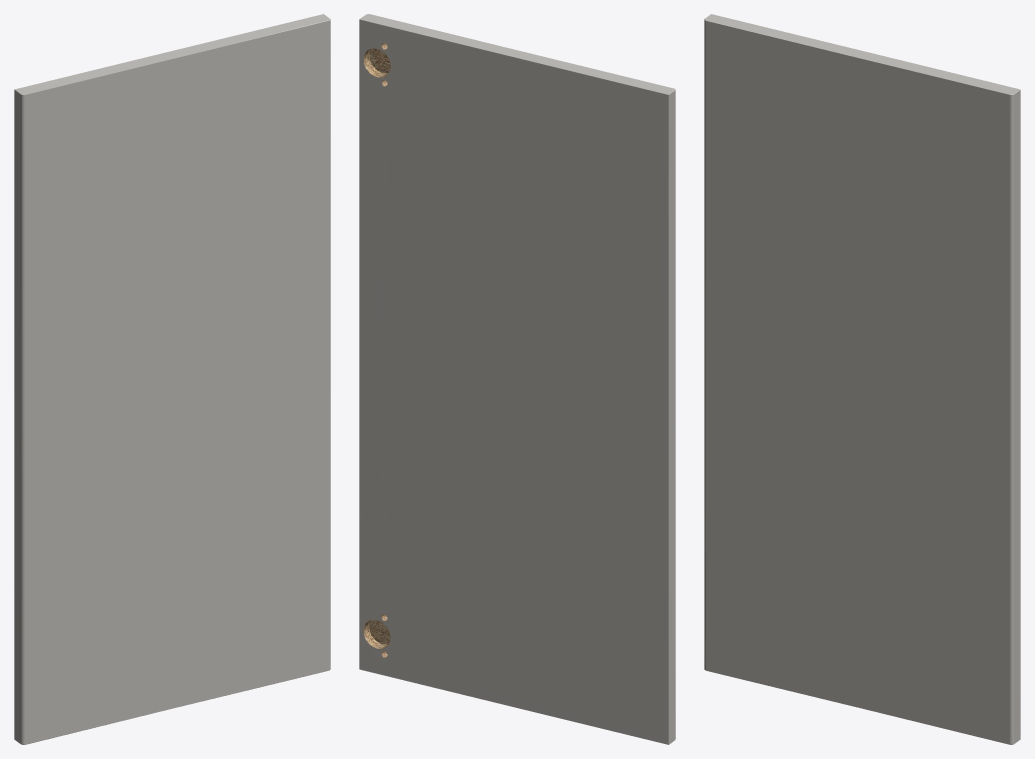
Rendered from RINGHULT Porte brillant gris clair 40x80 cm.glb.
3 renders of one model, left to right at view 1: azimuth 30°, elevation 25°; view 2: azimuth 150°, elevation 25°; view 3: azimuth 330°, elevation 25°, orthographic.
Visible parts, largest first — view 1: model; view 2: model; view 3: model.
Part boxes in pixels (x1,y1,x2,y2): model: (14, 14, 330, 744); model: (359, 14, 675, 744); model: (704, 14, 1020, 744).
Size of the model in its own units: 0.397 by 0.797 by 0.018.
1 material, 1 textured.
